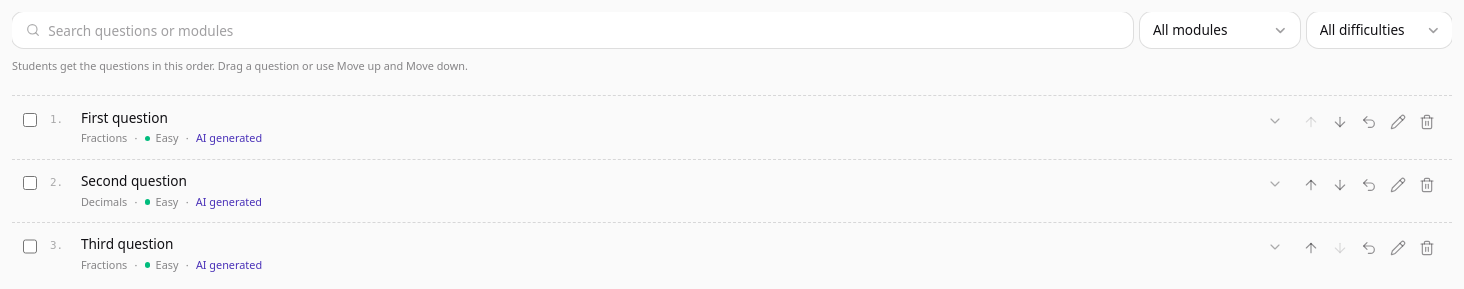
it: QuestionBank › ordering inside a quiz › turns reordering off while a filter is active and says why
Expected: the text "First question" is shown, [81,108,168,127]
Type "second" into the search field labelled "Search" at (572, 30), box [12,12,1133,48]
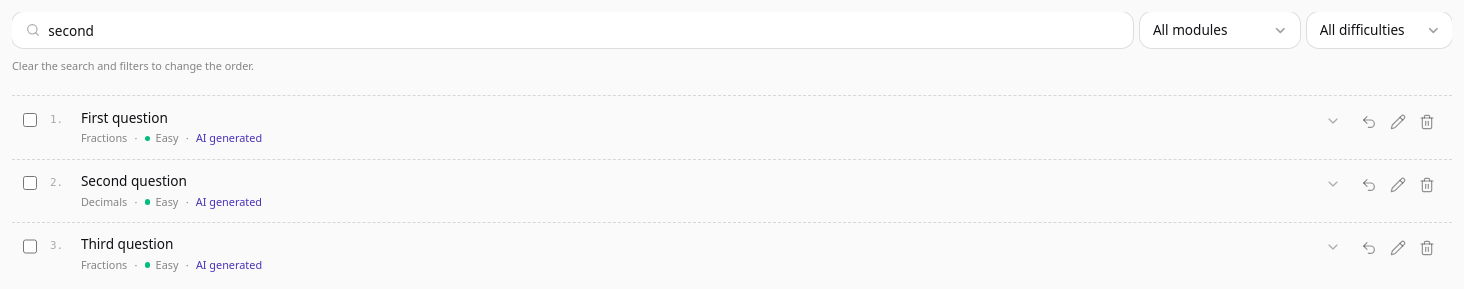
Expected: the text "Clear the search and filters to change the order." is shown, [12,58,254,73]
